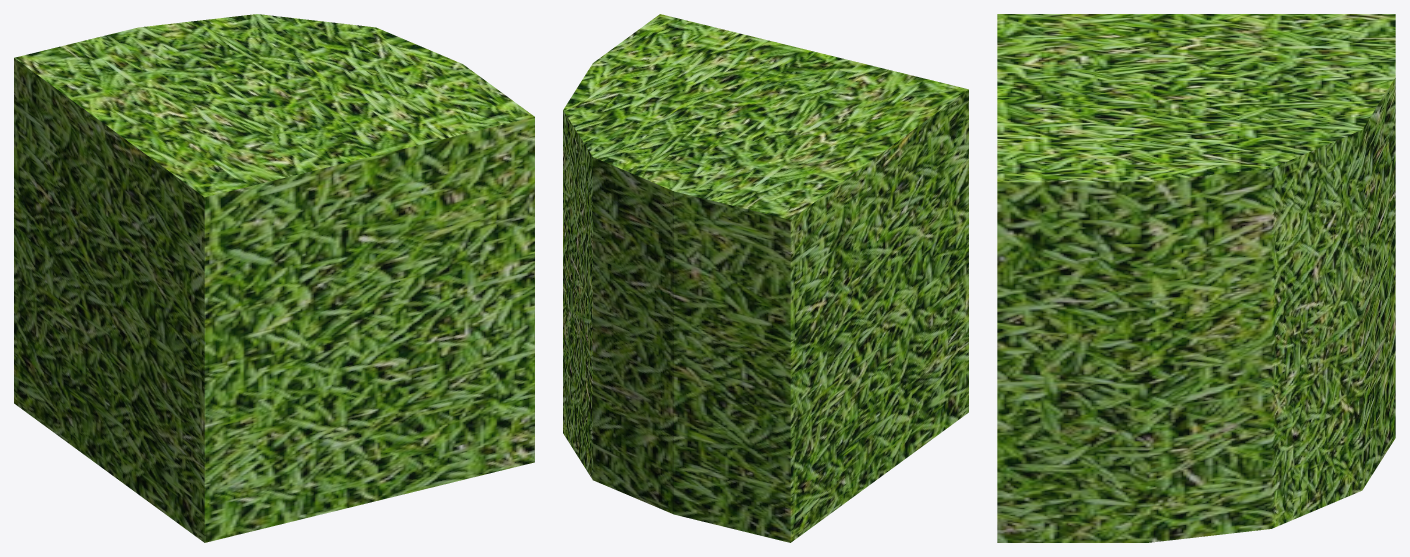
The model's file is BasicGrassCurved.glb.
3 views of the same model, side by side, from view 1: azimuth 30°, elevation 25°; view 2: azimuth 150°, elevation 25°; view 3: azimuth 270°, elevation 25° (orthographic). The views are drawn at different scales.
Visible parts, largest first — view 1: Cube.001; view 2: Cube.001; view 3: Cube.001.
Boxes of the visible parts, left/top/right/bottom form: Cube.001: left=14, top=14, right=534, bottom=542; Cube.001: left=563, top=14, right=968, bottom=542; Cube.001: left=997, top=14, right=1395, bottom=542.
Bounding box in the file's own units: 2 × 2 × 2.
1 material, 1 textured.
